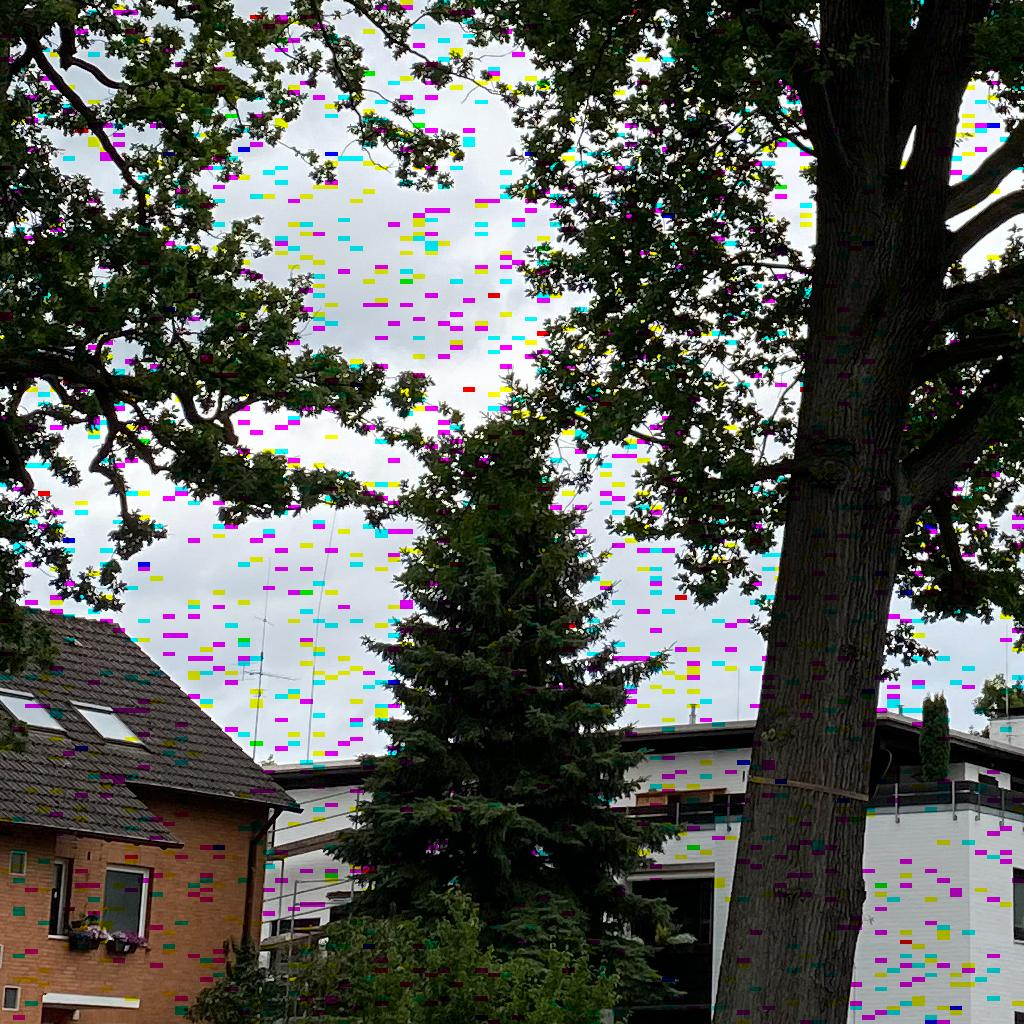tree: (423, 1, 1024, 1024), (1, 1, 523, 760), (323, 414, 687, 1022)
